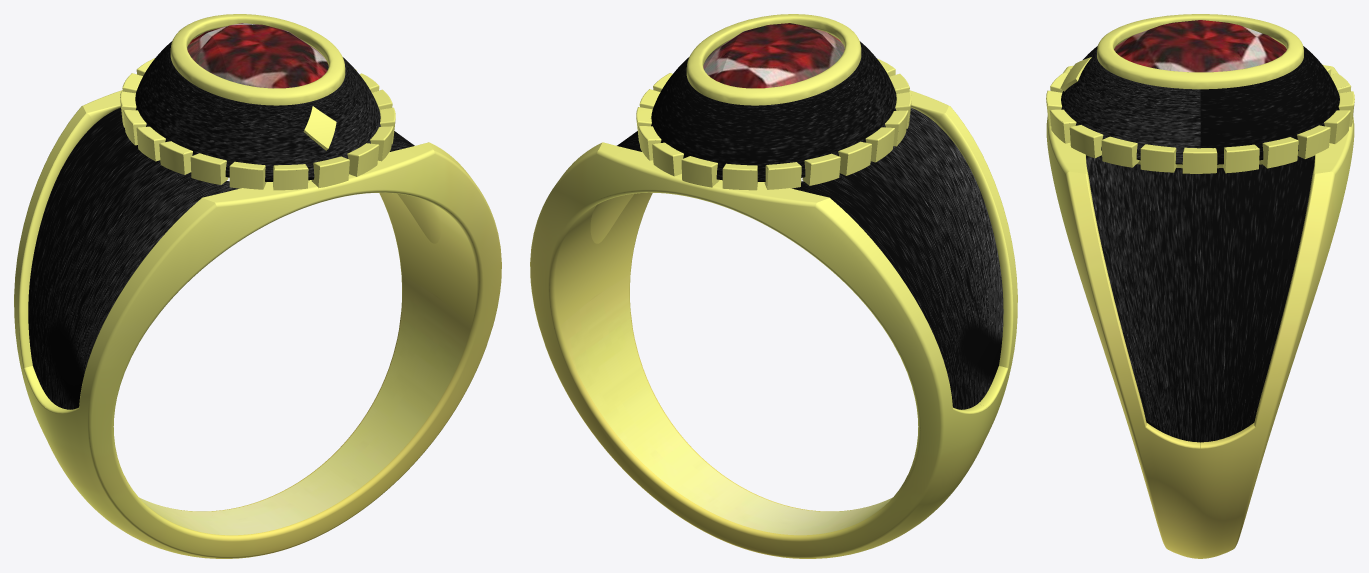
File: ring56.glb
3 views of the same model, side by side, from view 1: azimuth 30°, elevation 25°; view 2: azimuth 150°, elevation 25°; view 3: azimuth 270°, elevation 25° (orthographic).
Parts seen in each view (by area): view 1: body, black, core; view 2: body, black, core; view 3: black, body, core.
Boxes of the visible parts, <box> form: body: <box>14,14,501,558</box>; black: <box>28,41,414,409</box>; core: <box>187,23,328,88</box>; body: <box>530,14,1017,558</box>; black: <box>617,41,1003,409</box>; core: <box>703,23,844,88</box>; black: <box>1061,46,1339,442</box>; body: <box>1046,14,1354,558</box>; core: <box>1114,20,1286,72</box>.
Bounding box in the file's own units: 21.47 × 24.32 × 13.62.
4 materials, 4 textured.
